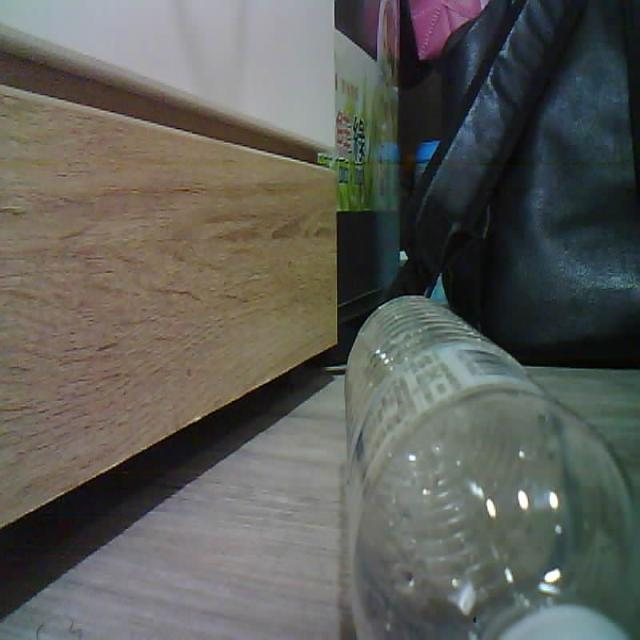bottle: (345, 297, 639, 639)
